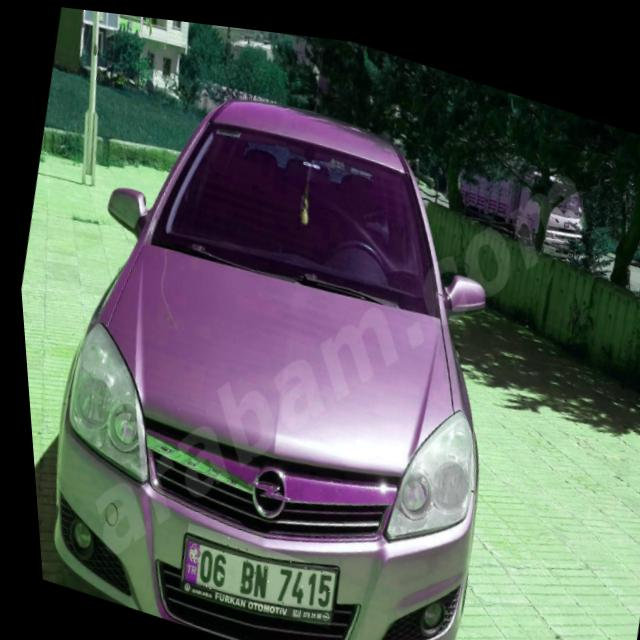license_plate: (168, 518, 332, 624)
